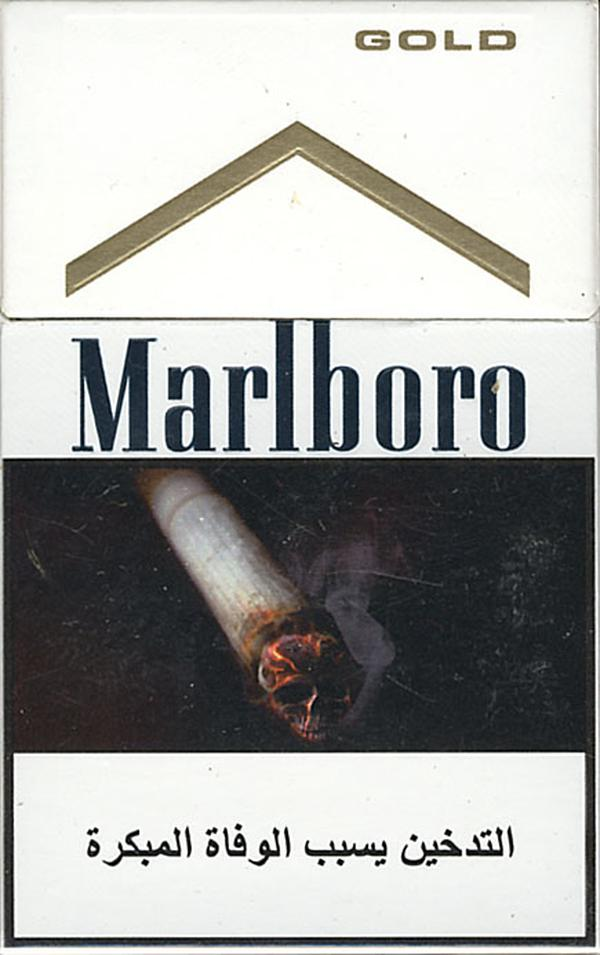marlboro_gold: (6, 2, 600, 945)
